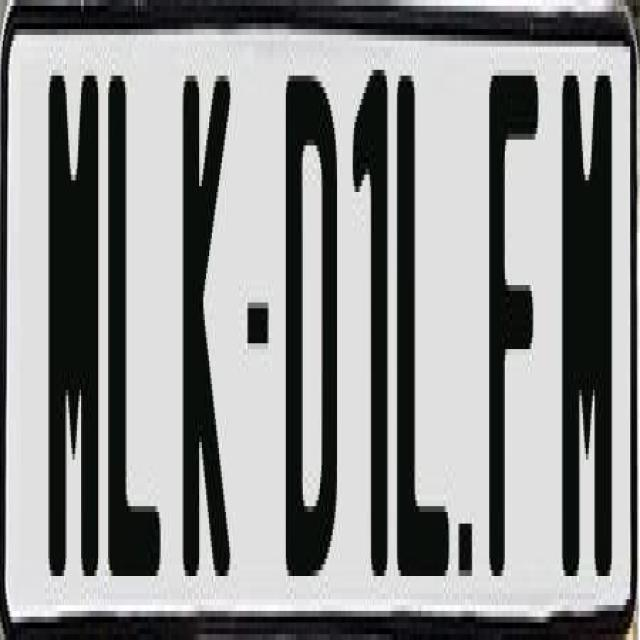1: (352, 52, 396, 576)
D: (286, 76, 342, 612)
F: (488, 70, 536, 588)
K: (179, 76, 232, 600)
L: (105, 70, 165, 570), (397, 58, 452, 570)
M: (562, 58, 620, 582), (47, 70, 101, 570)
